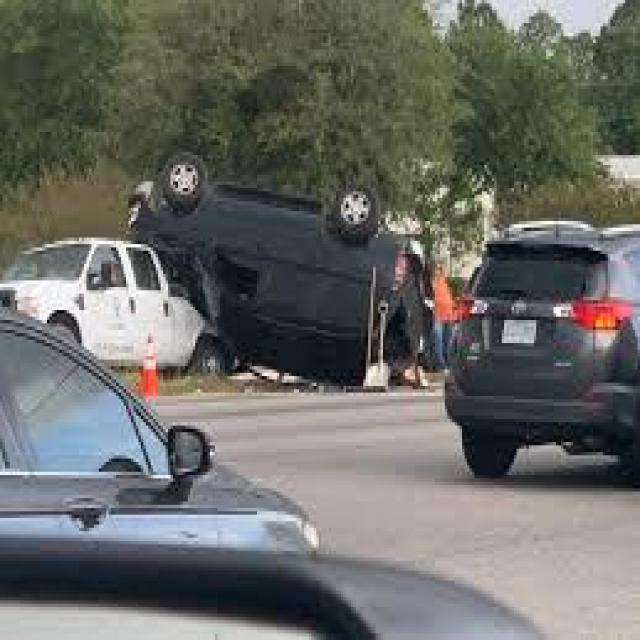multiple_accident: (1, 163, 427, 376)
normal: (466, 194, 637, 450)
